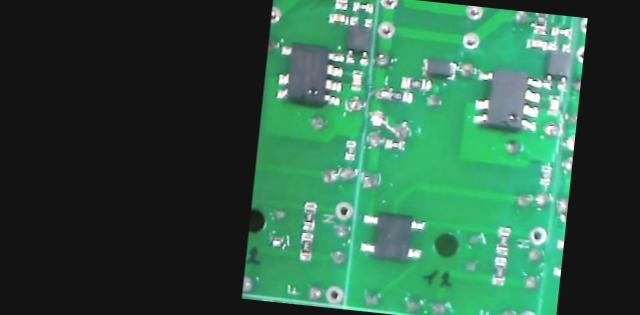chip-capacitor: (351, 66, 365, 90), (328, 10, 351, 24), (547, 92, 561, 114), (526, 35, 549, 48)
chip-resistor: (494, 223, 514, 254), (297, 228, 316, 260), (399, 73, 433, 90), (301, 198, 319, 230), (491, 254, 509, 285), (385, 87, 416, 102), (531, 12, 550, 35), (550, 23, 574, 38), (539, 162, 554, 186), (344, 136, 359, 159), (384, 136, 408, 150), (351, 0, 376, 12), (332, 0, 350, 9)
diode: (419, 55, 459, 79)
ic: (274, 36, 350, 109), (471, 66, 545, 133), (357, 206, 428, 263), (344, 13, 375, 65), (544, 38, 573, 91)
